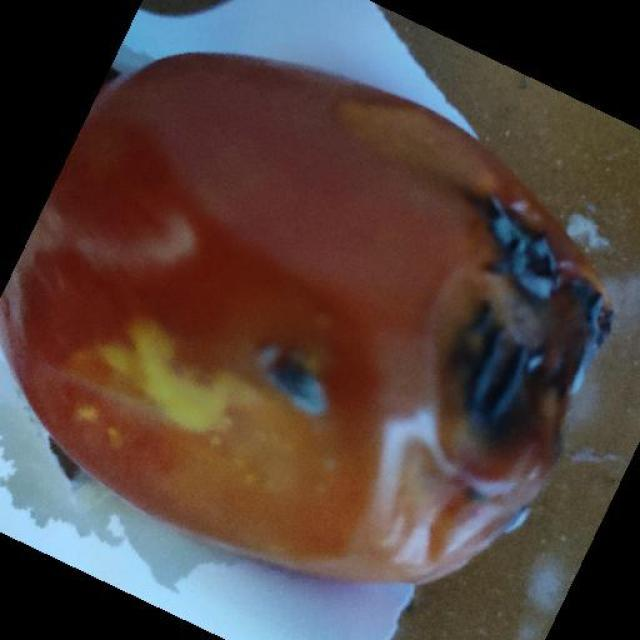Rotten Tomato: (39, 42, 613, 618)
